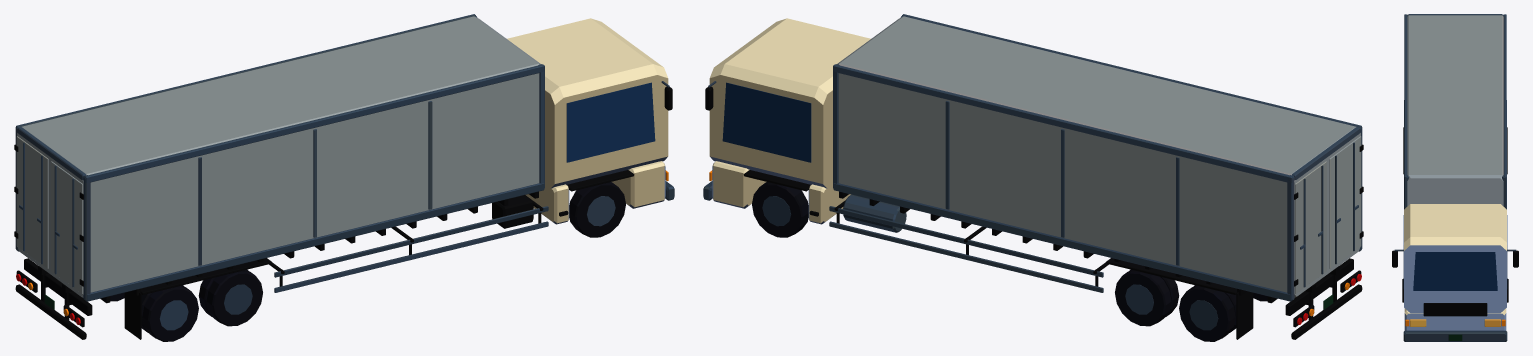
File: HK_Truck_Large.fbx
3 renders of one model, left to right at view 1: azimuth 30°, elevation 25°; view 2: azimuth 150°, elevation 25°; view 3: azimuth 270°, elevation 25°, orthographic. The views are drawn at different scales.
Visible parts, largest first — view 1: HK_Truck_Large_BodyMain; view 2: HK_Truck_Large_BodyMain; view 3: HK_Truck_Large_BodyMain.
Boxes of the visible parts, x1,y1,x2,y2 form: HK_Truck_Large_BodyMain: [14, 14, 674, 341]; HK_Truck_Large_BodyMain: [703, 14, 1363, 341]; HK_Truck_Large_BodyMain: [1392, 14, 1518, 341].
Size of the model in its own units: 12.01 by 3.62 by 3.07.
